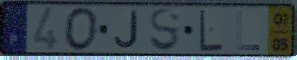4: (31, 6, 61, 53)
J: (113, 10, 140, 50)
L: (198, 8, 224, 53), (236, 10, 263, 52)
O: (62, 6, 100, 53)
S: (148, 7, 182, 54)
